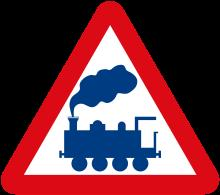Barrier Ahead: (8, 10, 212, 186)
